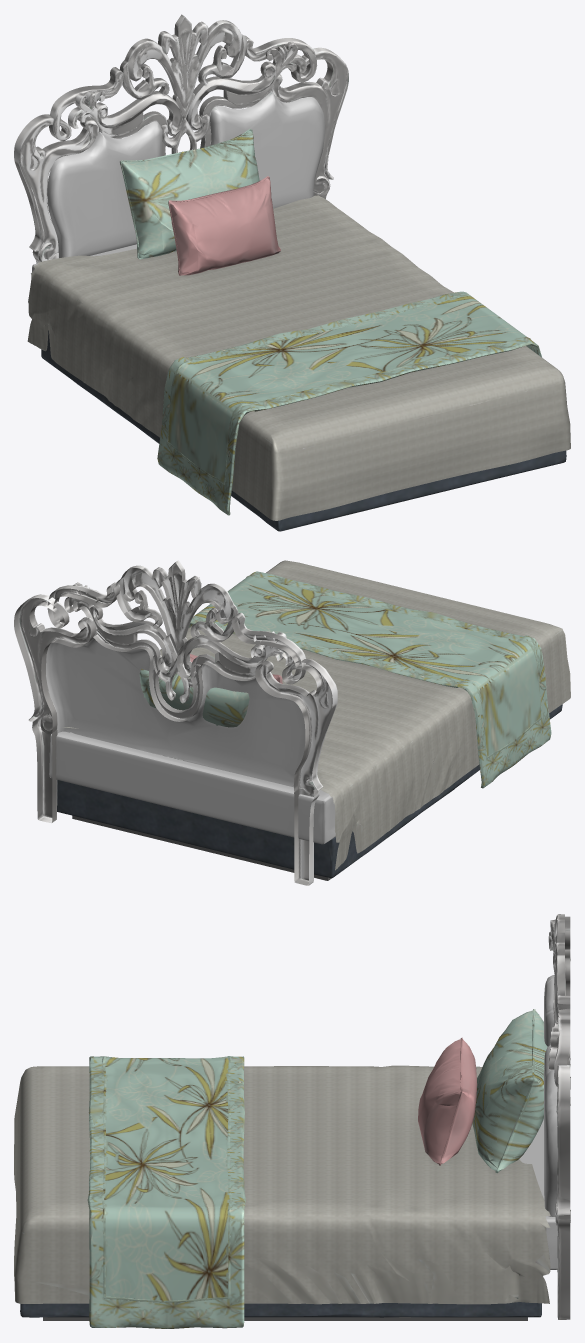
The picture shows the model from 3 angles, top to bottom: view 1: azimuth 30°, elevation 25°; view 2: azimuth 150°, elevation 25°; view 3: azimuth 270°, elevation 25°; orthographic projection. The views are drawn at different scales.
Visible parts, largest first — view 1: solid_001, solid_004, solid_003, solid_002, solid_008, solid_006; view 2: solid_001, solid_003, solid_004, solid_002, solid_005, solid_006, glass_001; view 3: solid_001, solid_004, solid_003, solid_006, solid_008, solid_002, glass_001, solid_005.
Part boxes in pixels (x1=…): solid_001: x1=27, y1=195, x2=570, y2=520; solid_004: x1=120, y1=129, x2=541, y2=515; solid_003: x1=14, y1=14, x2=348, y2=263; solid_002: x1=47, y1=91, x2=325, y2=257; solid_008: x1=168, y1=176, x2=280, y2=275; solid_006: x1=41, y1=330, x2=566, y2=531; solid_001: x1=62, y1=560, x2=570, y2=870; solid_003: x1=14, y1=560, x2=337, y2=885; solid_004: x1=139, y1=571, x2=551, y2=788; solid_002: x1=46, y1=631, x2=305, y2=787; solid_005: x1=49, y1=731, x2=335, y2=844; solid_006: x1=57, y1=704, x2=562, y2=878; glass_001: x1=72, y1=815, x2=331, y2=880; solid_001: x1=14, y1=1065, x2=550, y2=1304; solid_004: x1=87, y1=1009, x2=547, y2=1328; solid_003: x1=548, y1=914, x2=570, y2=1319; solid_006: x1=20, y1=1302, x2=541, y2=1317; solid_008: x1=418, y1=1037, x2=477, y2=1165; solid_002: x1=544, y1=975, x2=557, y2=1216; glass_001: x1=43, y1=1317, x2=527, y2=1320; solid_005: x1=519, y1=1119, x2=557, y2=1269.
Size of the model in its own units: 1.31 by 1.14 by 1.72.
1 material, 1 textured.
